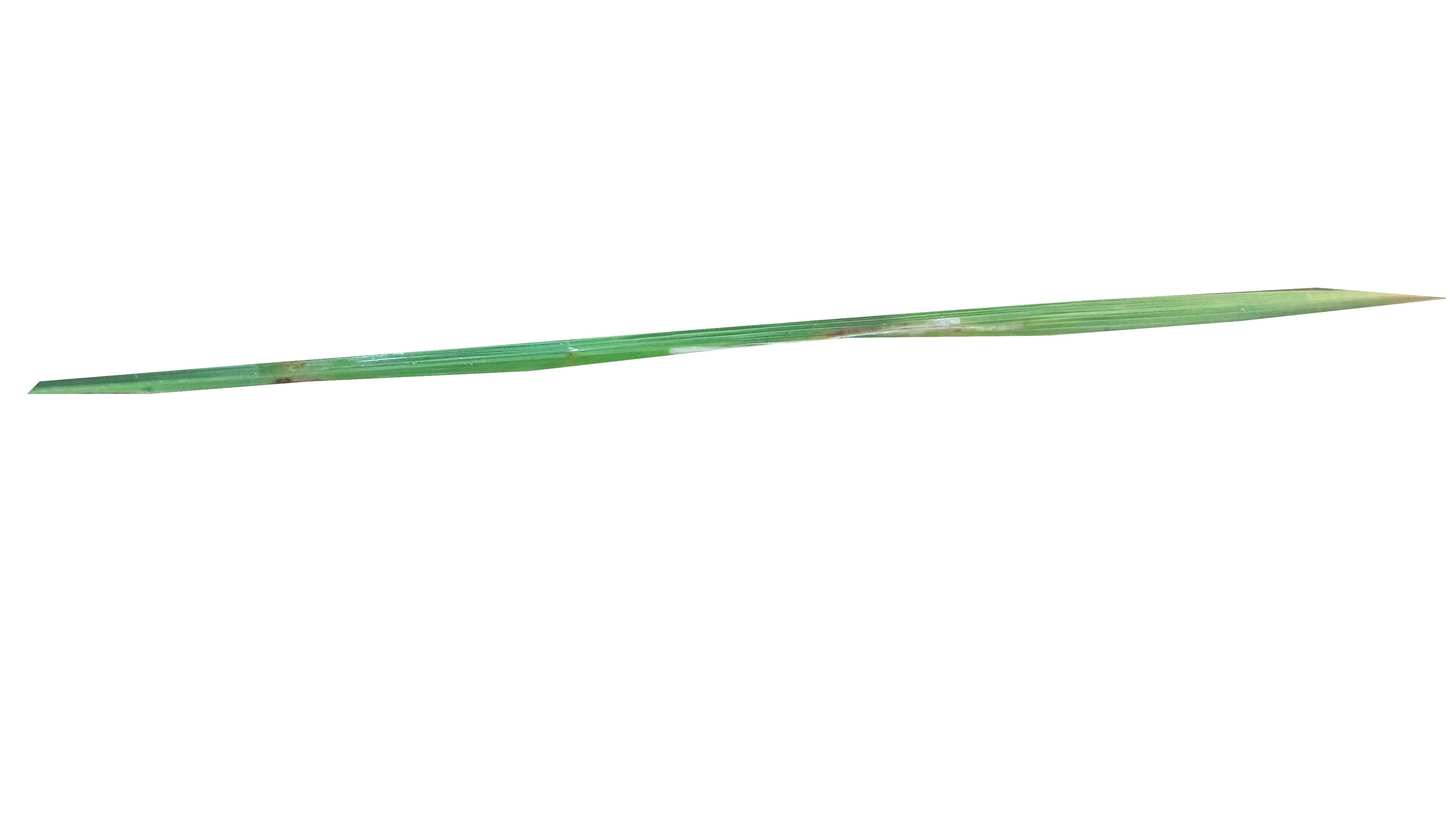Rice blast: (266, 364, 323, 386)
